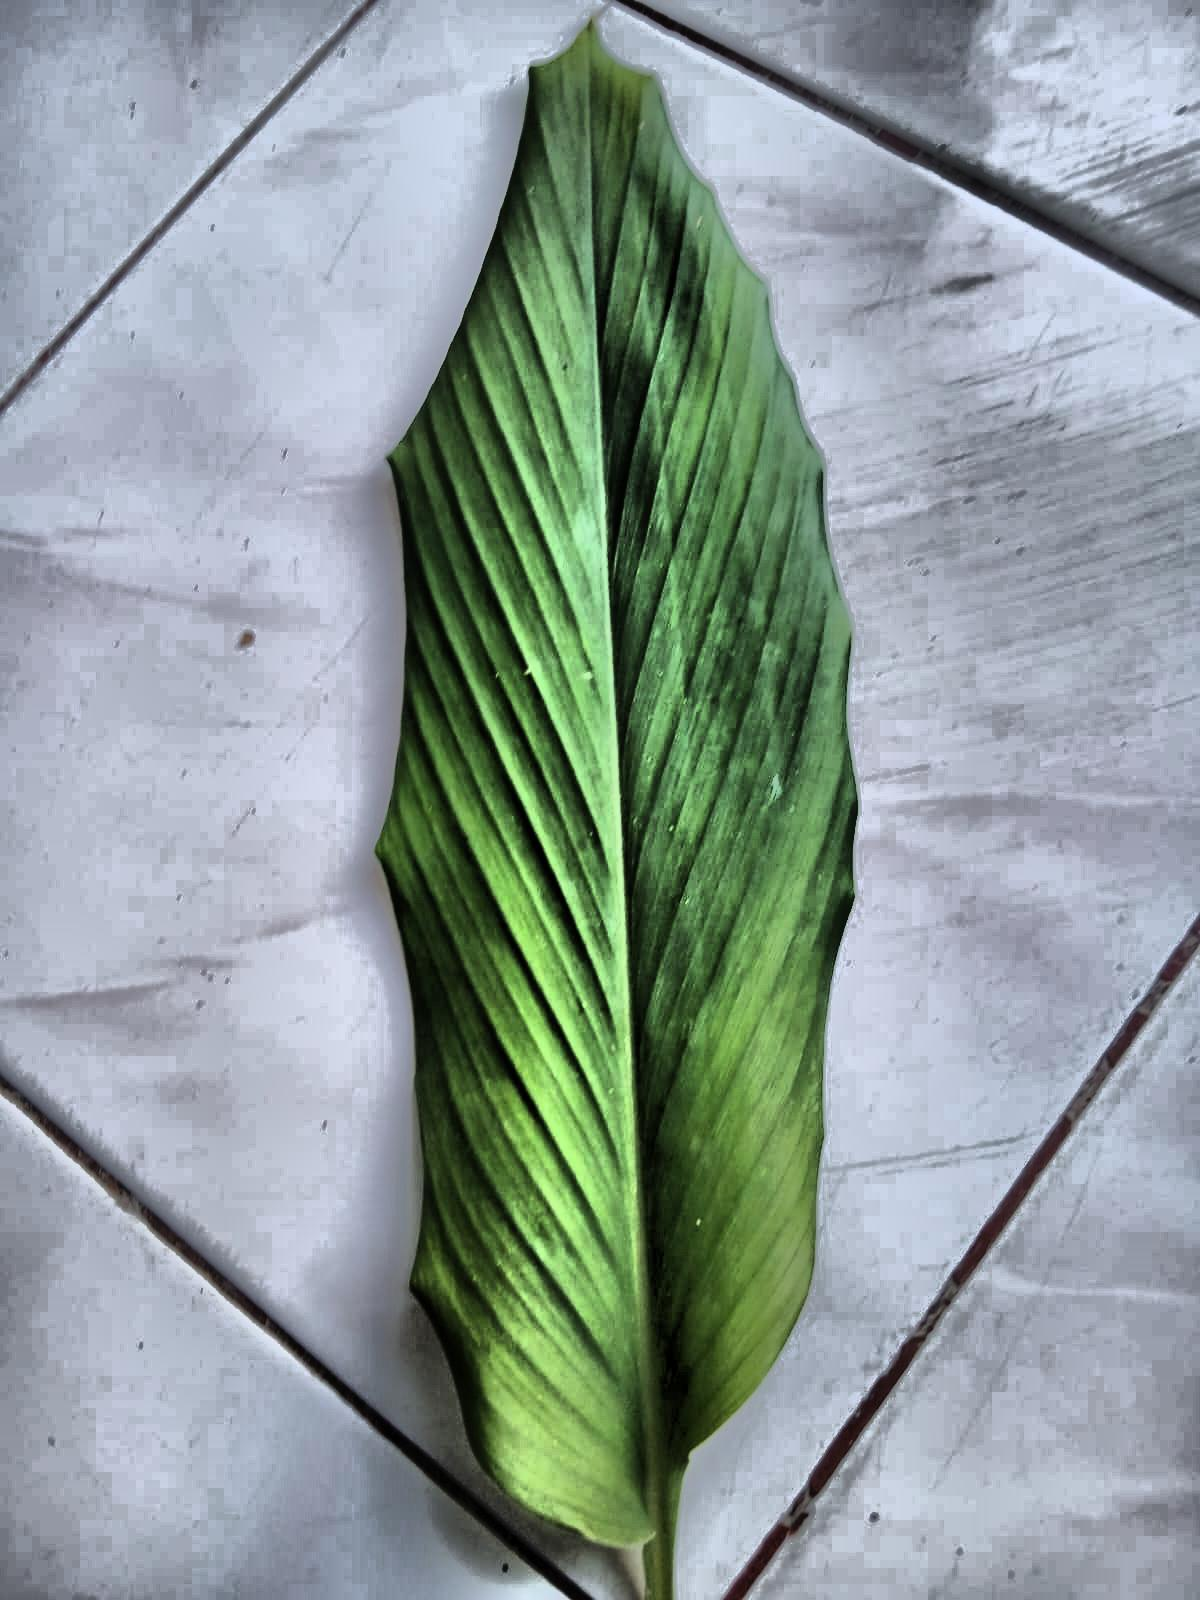daun kunyit: (378, 25, 856, 1599)
